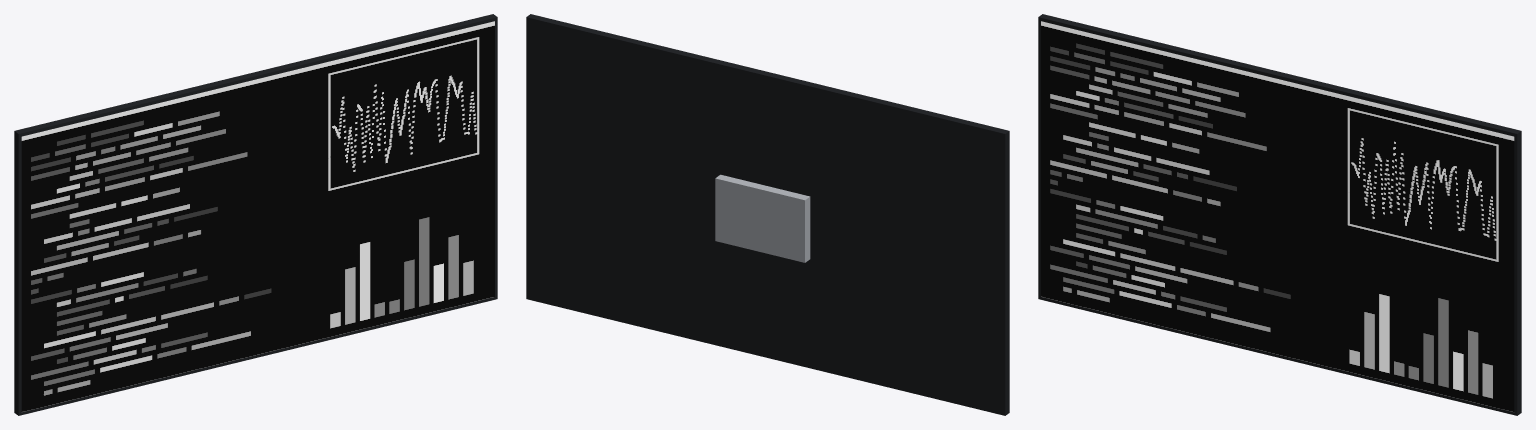
Rendered from Tech_WallDisplay.gltf.
3 renders of one model, left to right at view 1: azimuth 30°, elevation 25°; view 2: azimuth 150°, elevation 25°; view 3: azimuth 330°, elevation 25°, orthographic.
Parts seen in each view (by area): view 1: Tech_WallDisplay; view 2: Tech_WallDisplay; view 3: Tech_WallDisplay.
Part boxes in pixels (box(x1,y1,x2,y2)): Tech_WallDisplay: box(14, 14, 497, 415); Tech_WallDisplay: box(526, 14, 1009, 415); Tech_WallDisplay: box(1038, 14, 1521, 415).
Bounding box in the file's own units: 1.6 × 0.9 × 0.0585.
Materials: 3 (1 with a texture image).
